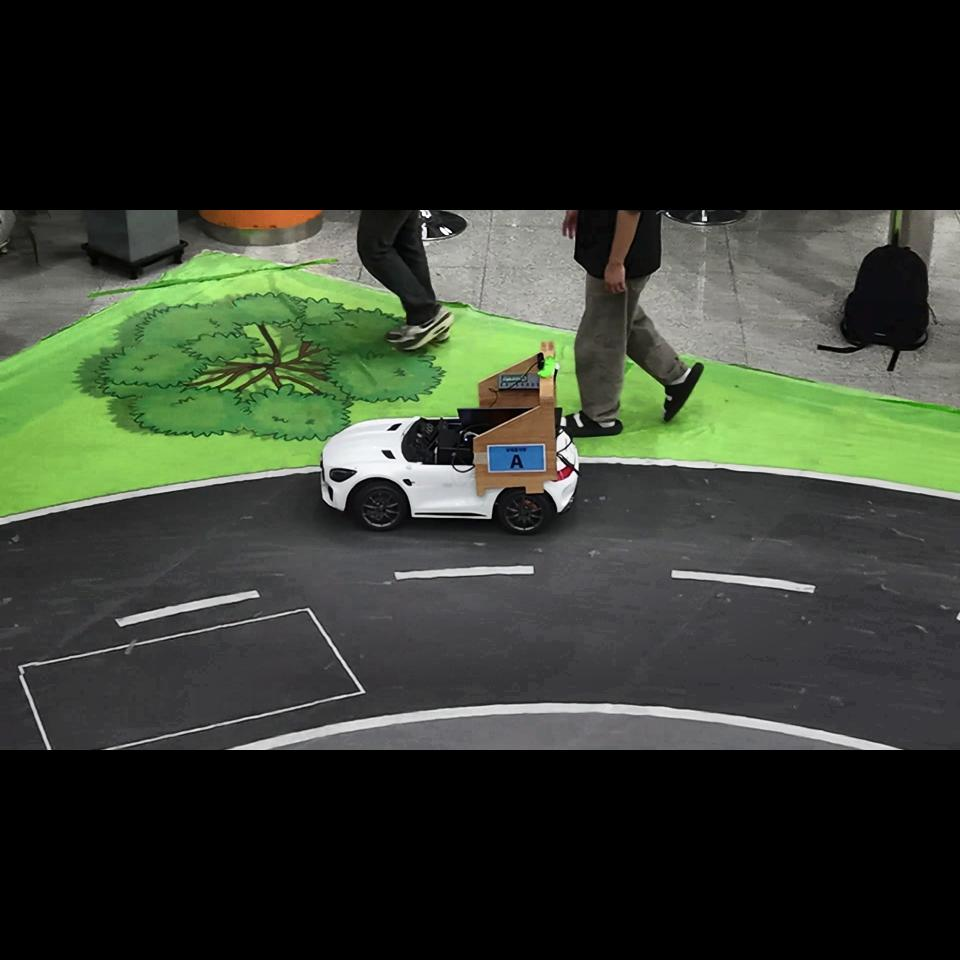broken_line: (114, 590, 261, 627), (671, 570, 816, 594), (394, 565, 534, 580), (956, 612, 960, 621)
